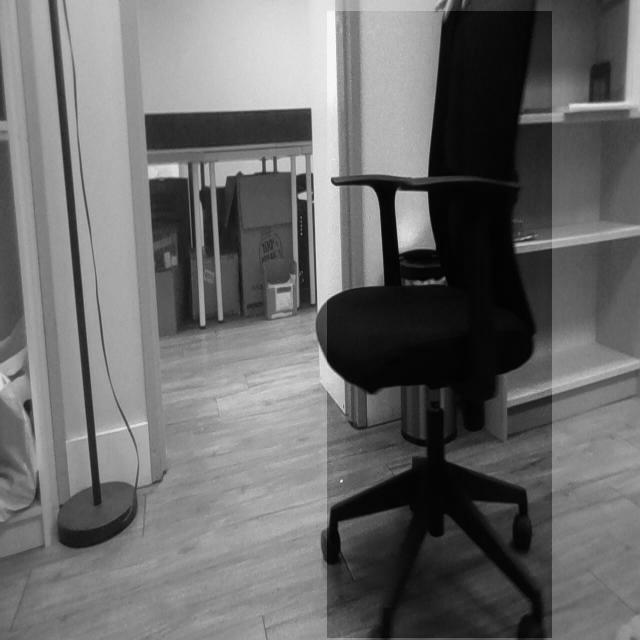chair: (327, 11, 553, 639)
